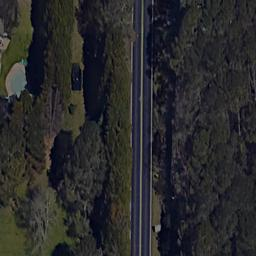Double Solid Yellow Line: (138, 3, 144, 255)
